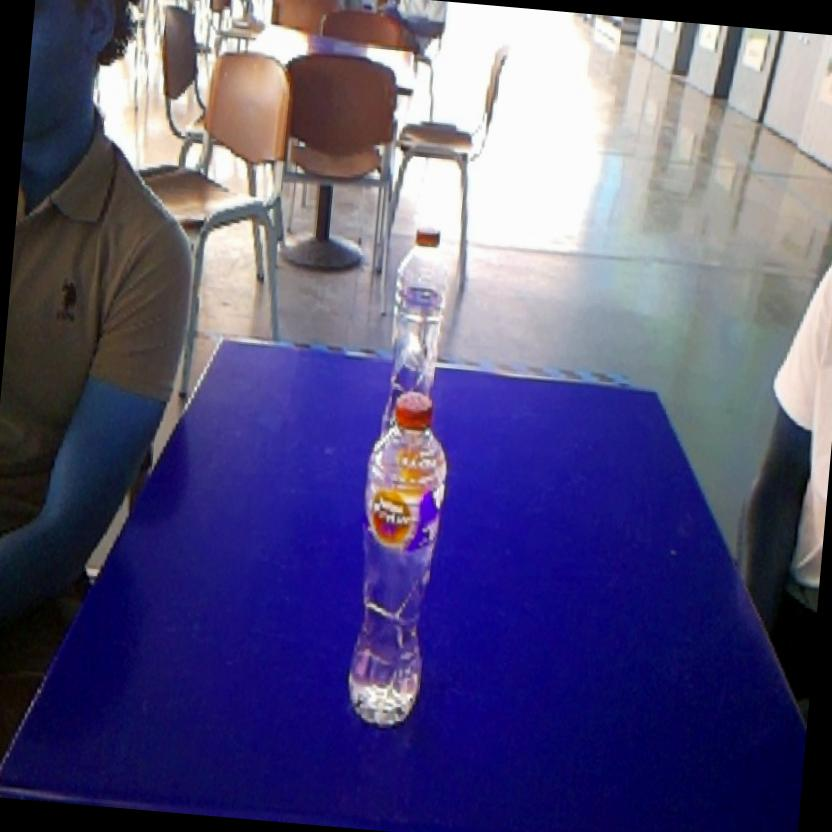good: (330, 362, 475, 756)
no_label: (378, 214, 463, 388)
